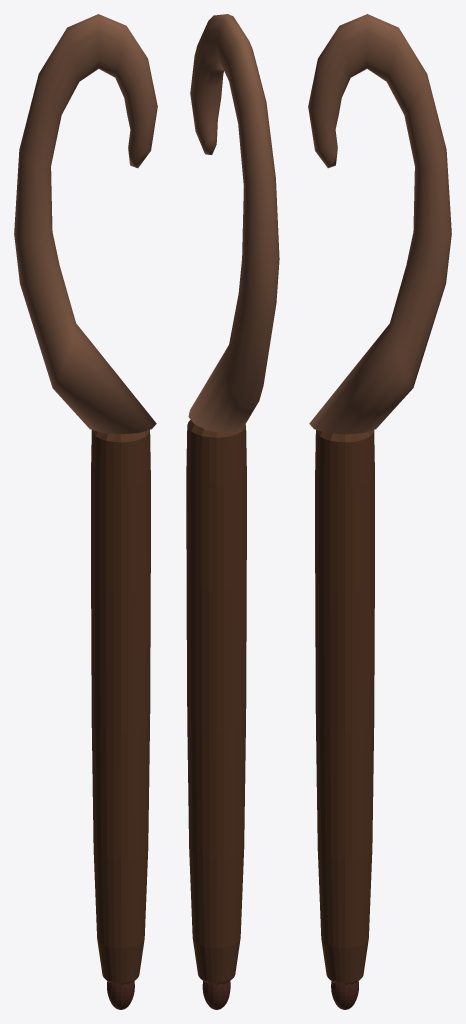
The model's file is Wand 86.glb.
The picture shows the model from 3 angles, left to right: view 1: azimuth 90°, elevation 25°; view 2: azimuth 210°, elevation 25°; view 3: azimuth 270°, elevation 25°; orthographic projection.
Parts seen in each view (by area): view 1: GeneratedWand; view 2: GeneratedWand; view 3: GeneratedWand.
Boxes of the visible parts, box(x1,y1,x2,y2) form: GeneratedWand: box(14, 14, 157, 1009); GeneratedWand: box(186, 14, 279, 1009); GeneratedWand: box(308, 14, 451, 1009).
Size of the model in its own units: 0.0273 by 0.4997 by 0.0654.
